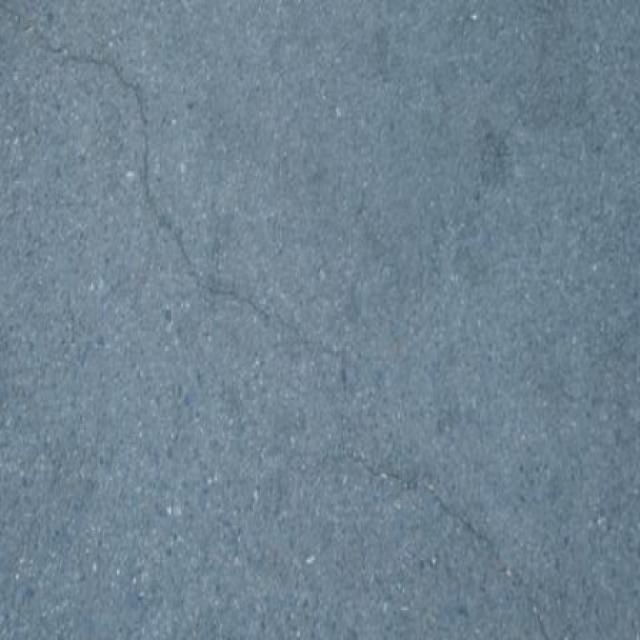Alligator Crack: (0, 9, 275, 334), (330, 420, 552, 640)
